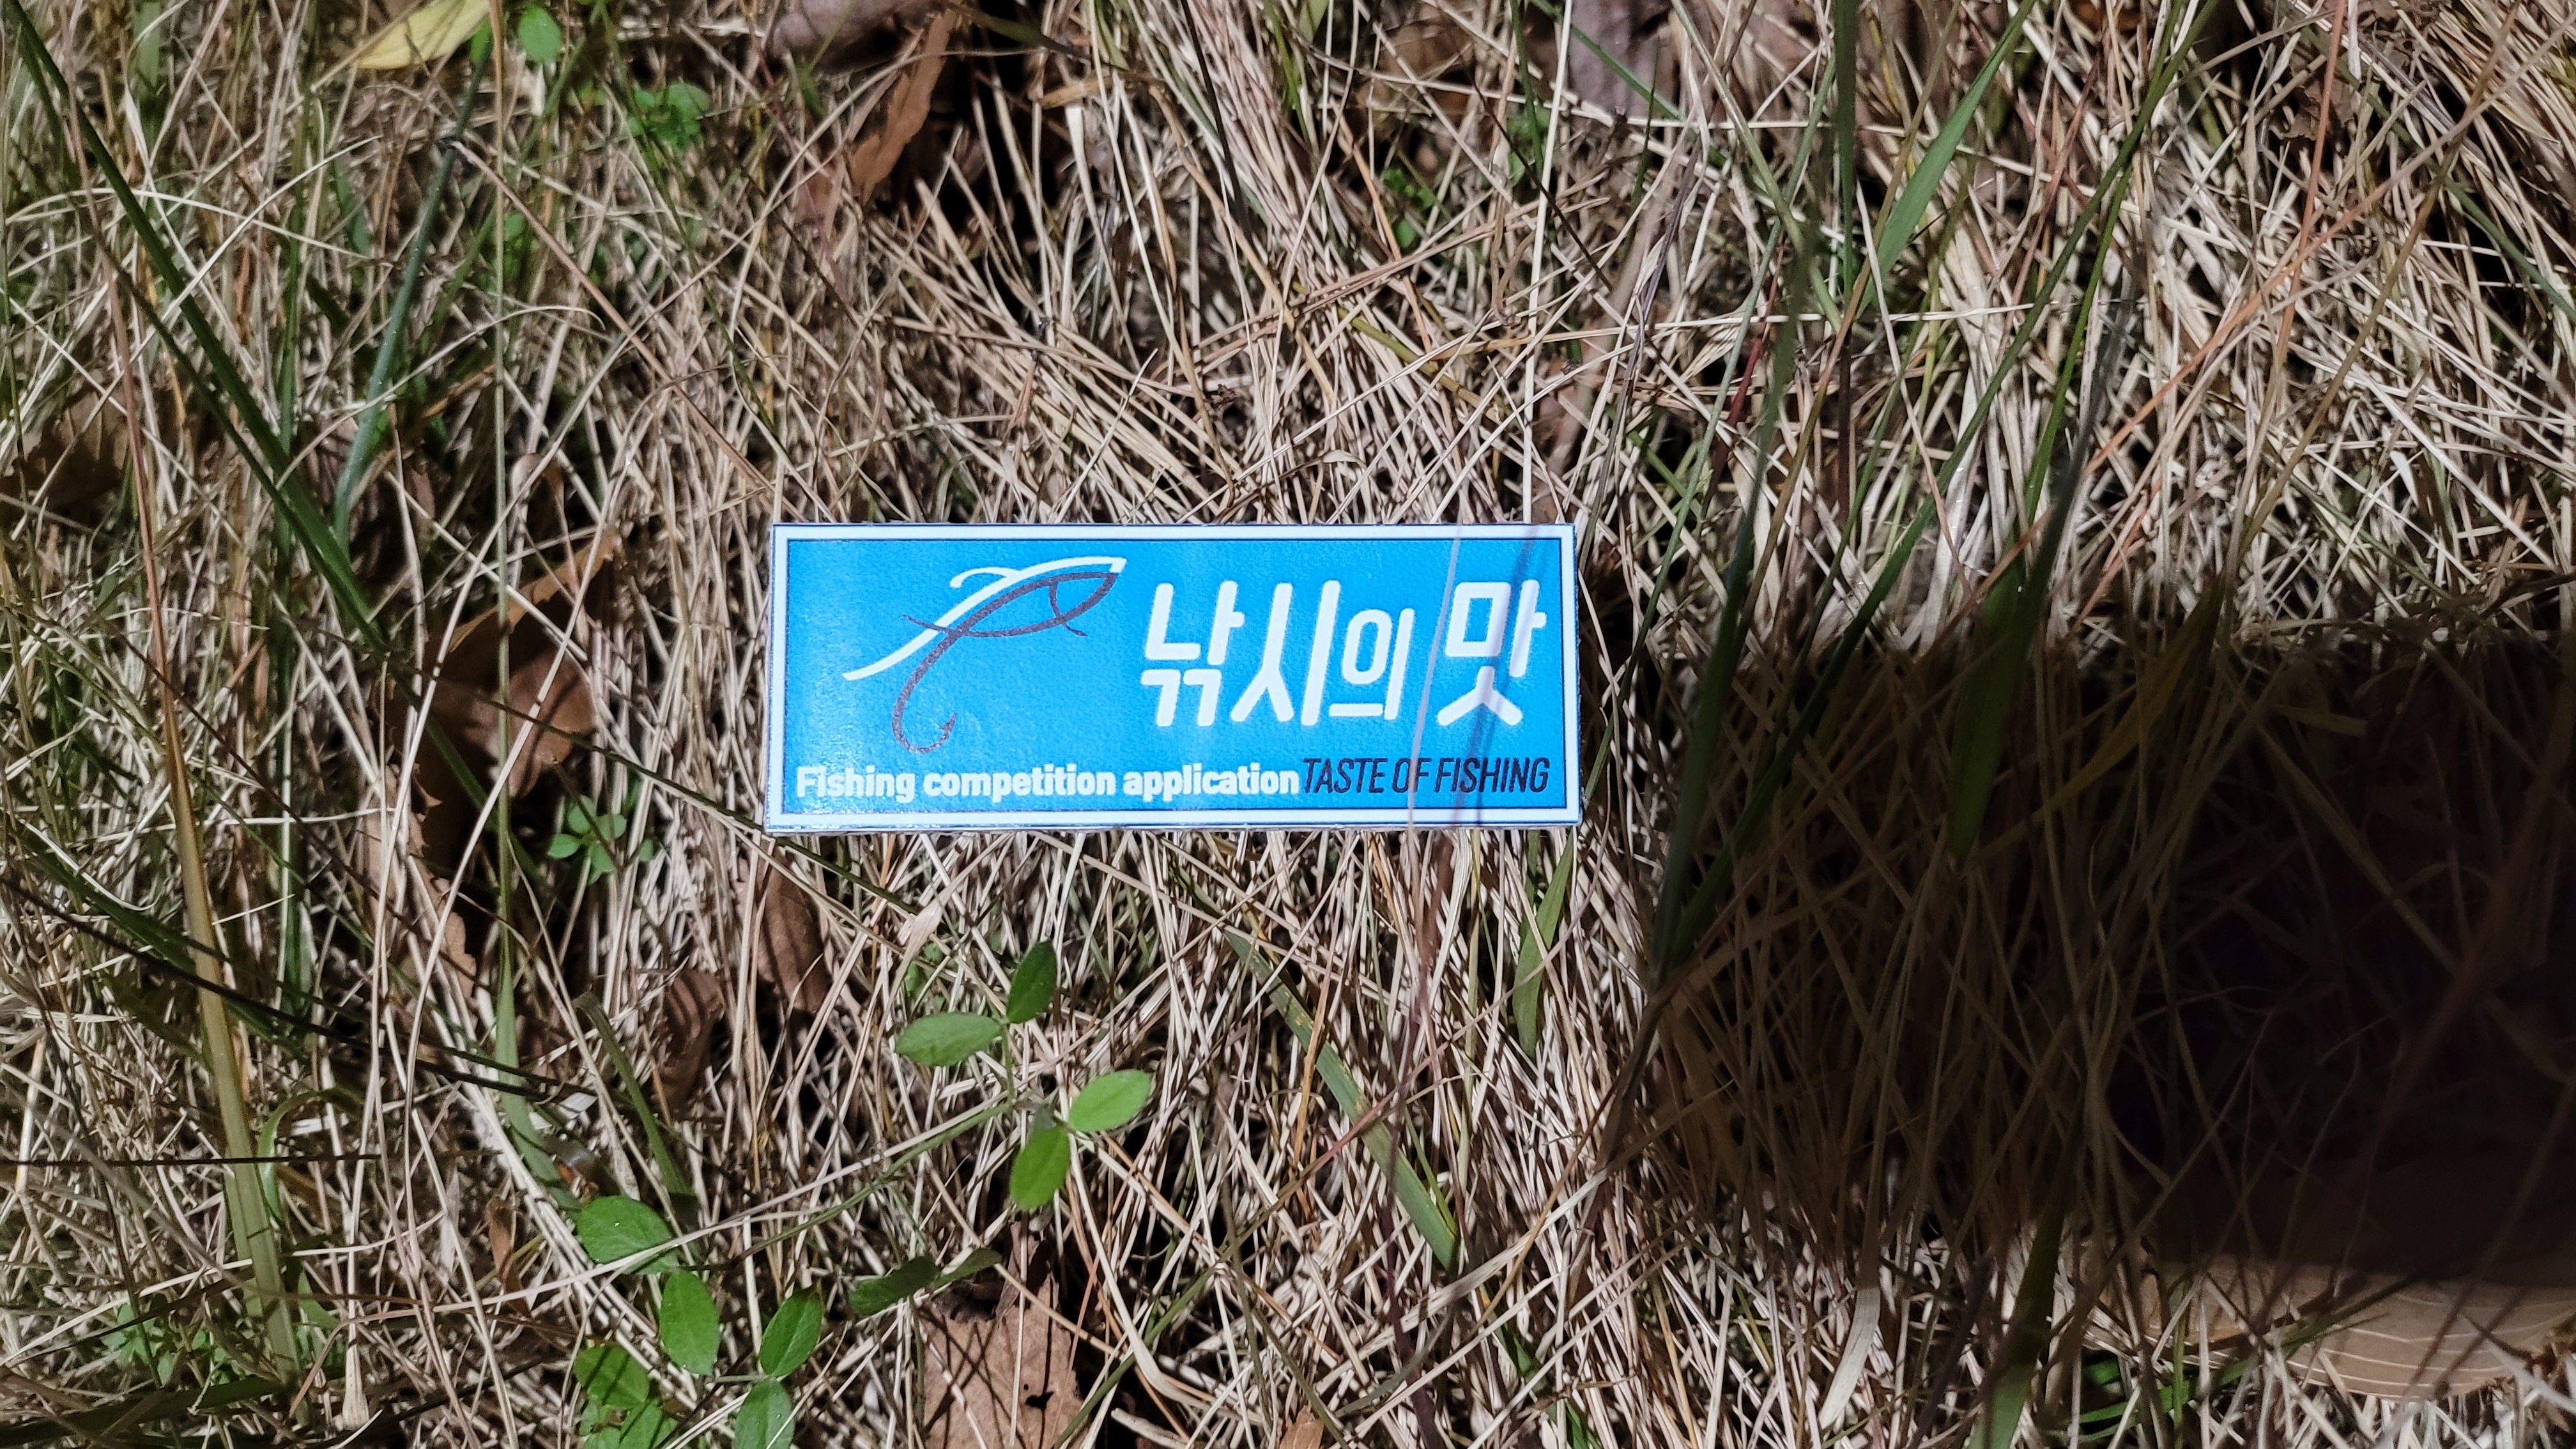tag: (770, 527, 1578, 828)
